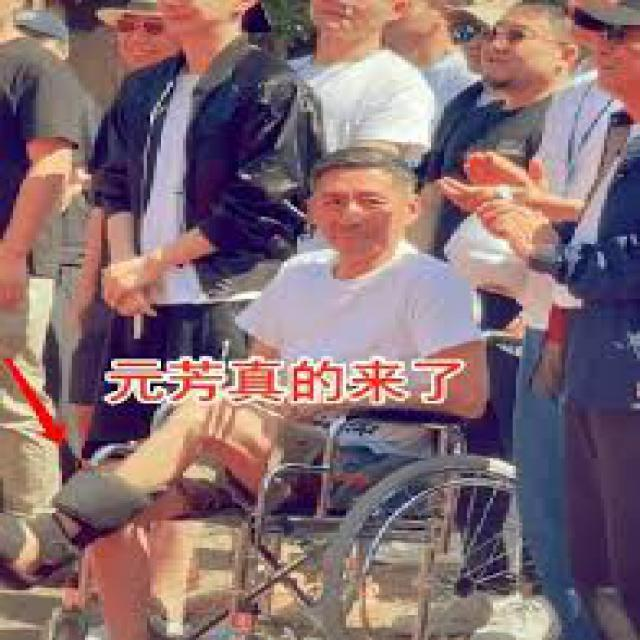wheelchairs: (19, 328, 556, 638)
